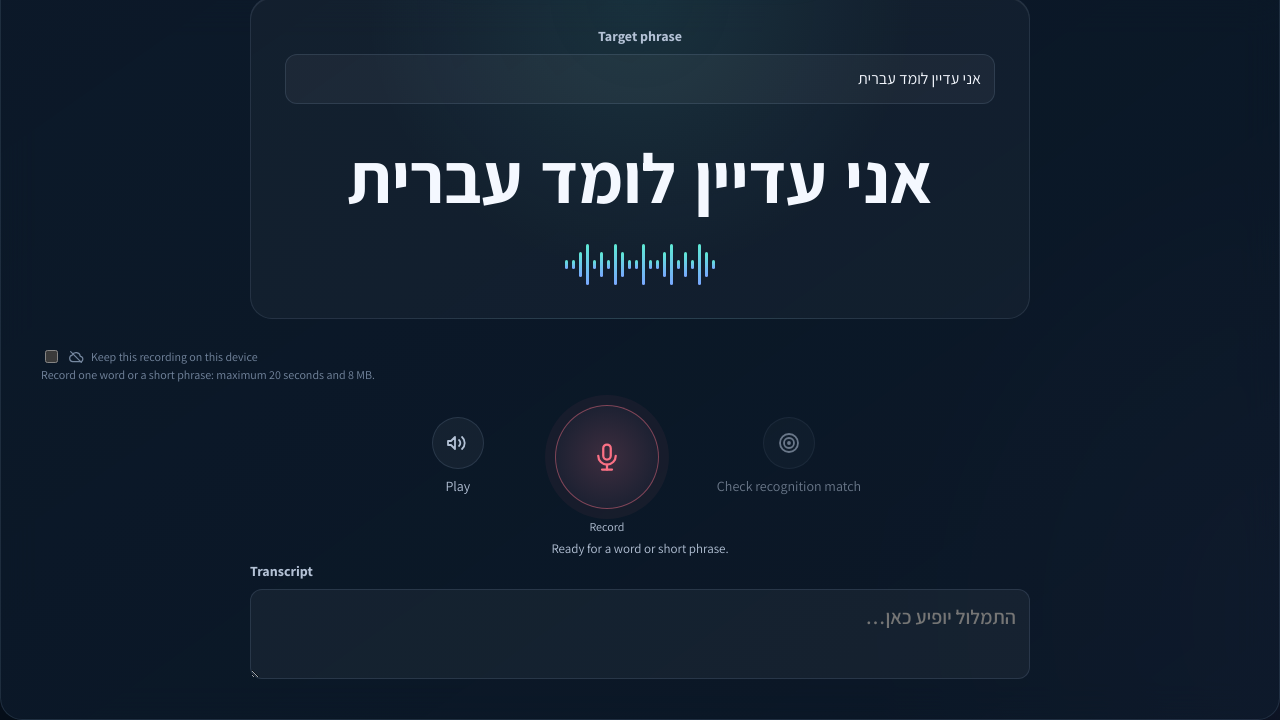
Scenario: AudioPractice › shows an explicit transcript-understanding error without hiding the transcript
(page scrolled)
Step 1. Type "שלום עולם" into the text box labelled "Transcript" → (640, 634), box [250,589,1030,679]
(page scrolled)
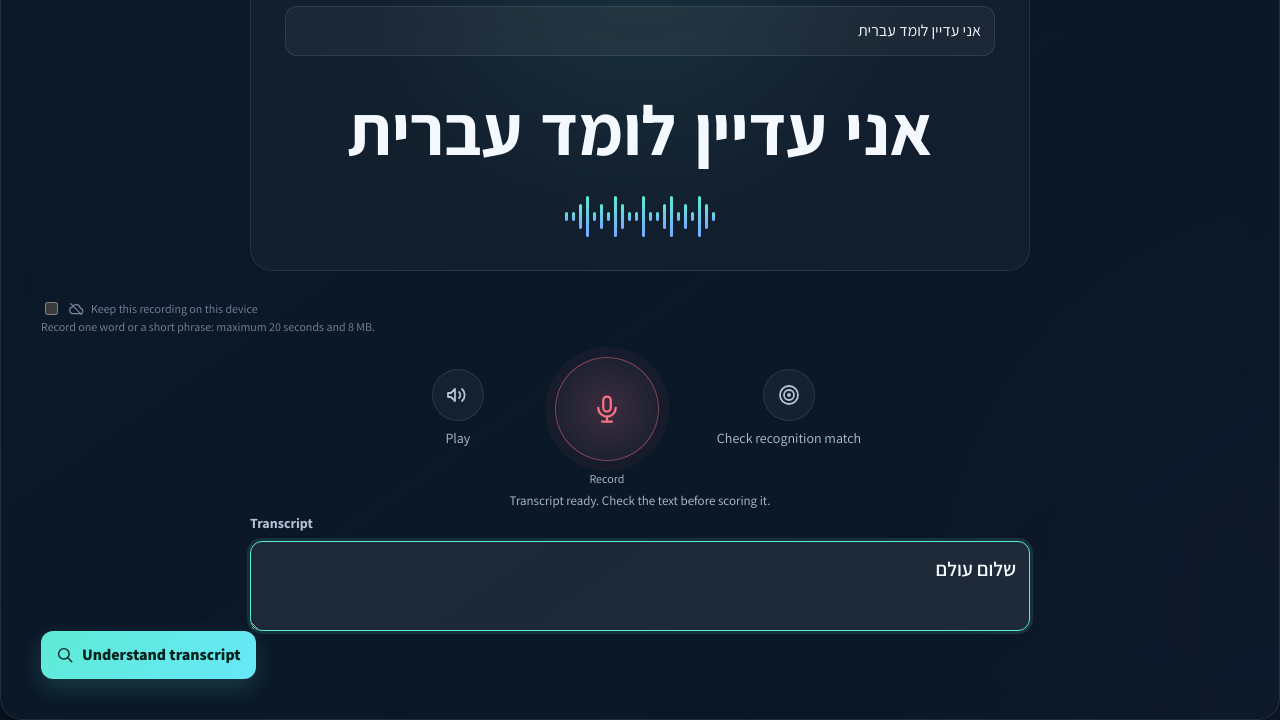
Step 2. Click the button "Understand transcript" → (148, 655), box [41,631,256,679]
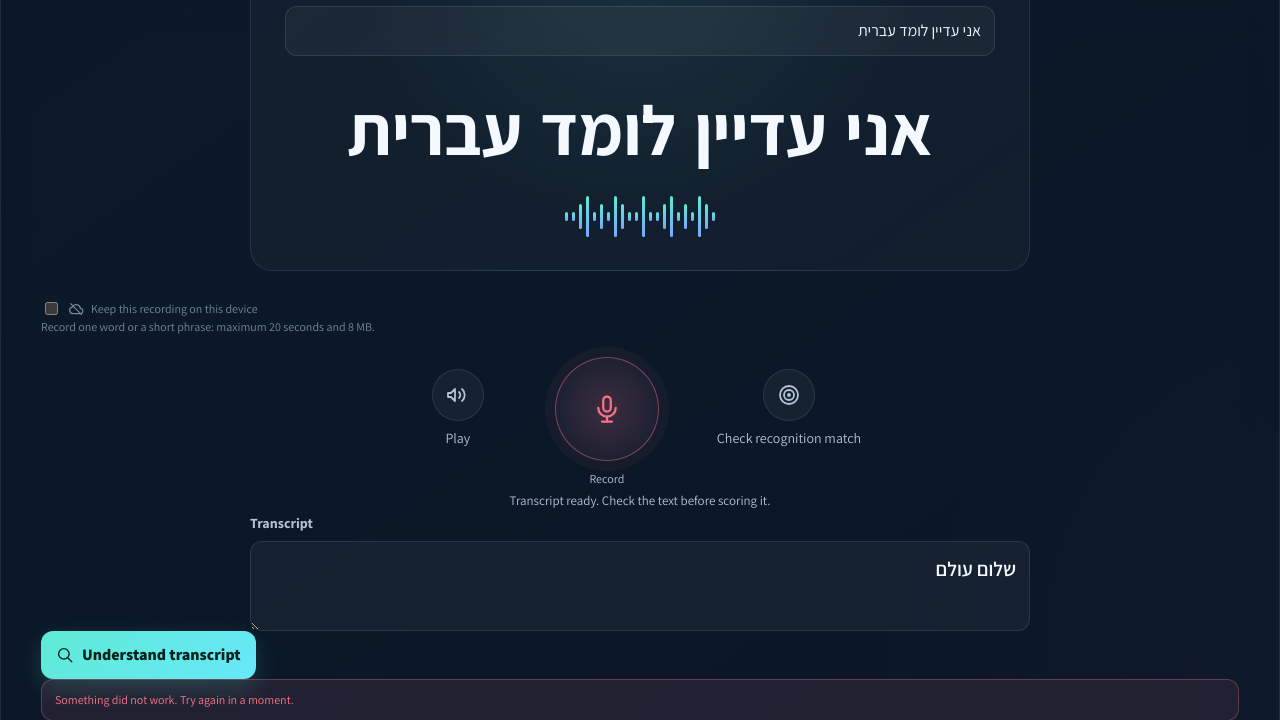
Now the message reads "Something did not work. Try again in a moment.", box [55,692,294,707]
